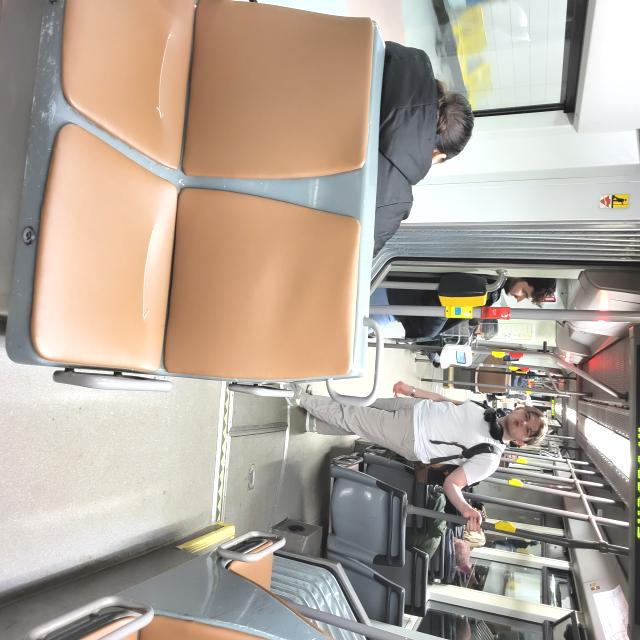asiento-libre: (252, 369, 445, 640), (161, 352, 296, 640), (564, 403, 640, 555), (506, 310, 586, 420), (573, 312, 631, 418), (569, 282, 623, 369), (619, 512, 640, 640)
